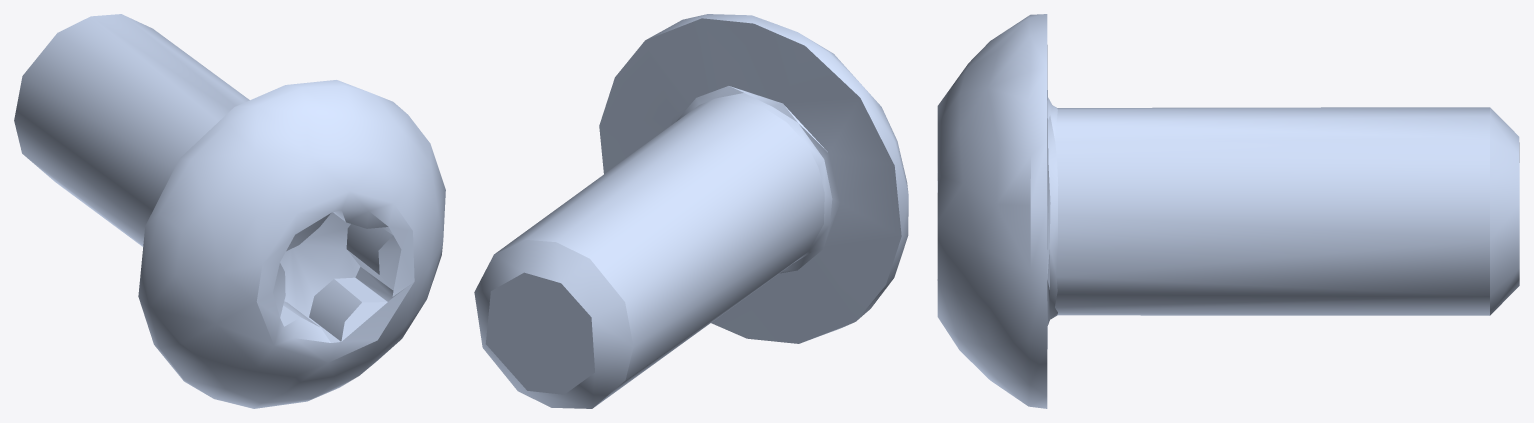
File: _8-32_x_3_8_Star_Drive_Screw__276-4991_.glb
3 views of the same model, side by side, from view 1: azimuth 30°, elevation 25°; view 2: azimuth 150°, elevation 25°; view 3: azimuth 270°, elevation 25° (orthographic). The views are drawn at different scales.
Visible parts, largest first — view 1: #8-32 x 3_8 Star Drive Screw (276-4991); view 2: #8-32 x 3_8 Star Drive Screw (276-4991); view 3: #8-32 x 3_8 Star Drive Screw (276-4991).
Part boxes in pixels (x1,y1,x2,y2): #8-32 x 3_8 Star Drive Screw (276-4991): (14,14,445,408); #8-32 x 3_8 Star Drive Screw (276-4991): (474,14,908,408); #8-32 x 3_8 Star Drive Screw (276-4991): (937,14,1519,408).
Bounding box in the file's own units: 0.3123 × 0.3131 × 0.4623.
